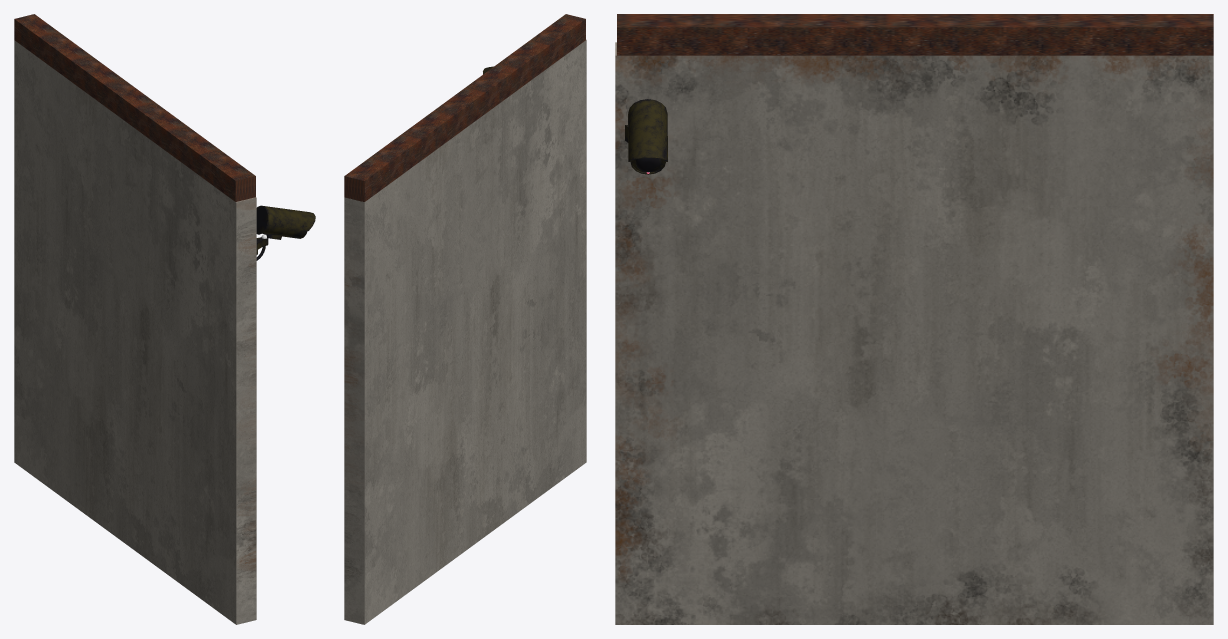
File: Wall Camera.fbx
The picture shows the model from 3 angles, left to right: view 1: azimuth 30°, elevation 25°; view 2: azimuth 150°, elevation 25°; view 3: azimuth 270°, elevation 25°; orthographic projection. The views are drawn at different scales.
Parts seen in each view (by area): view 1: Wall 2, Wall 2 Beam, Camera; view 2: Wall 2, Wall 2 Beam; view 3: Wall 2, Wall 2 Beam, Camera.
Part boxes in pixels (x1=…): Wall 2: x1=14, y1=40, x2=256, y2=624; Wall 2 Beam: x1=14, y1=14, x2=255, y2=201; Camera: x1=256, y1=205, x2=315, y2=260; Wall 2: x1=344, y1=39, x2=586, y2=624; Wall 2 Beam: x1=344, y1=14, x2=585, y2=201; Wall 2: x1=615, y1=42, x2=1213, y2=624; Wall 2 Beam: x1=617, y1=14, x2=1213, y2=55; Camera: x1=625, y1=99, x2=667, y2=174.
Bounding box in the file's own units: 0.8889 × 3.81 × 4.2.
